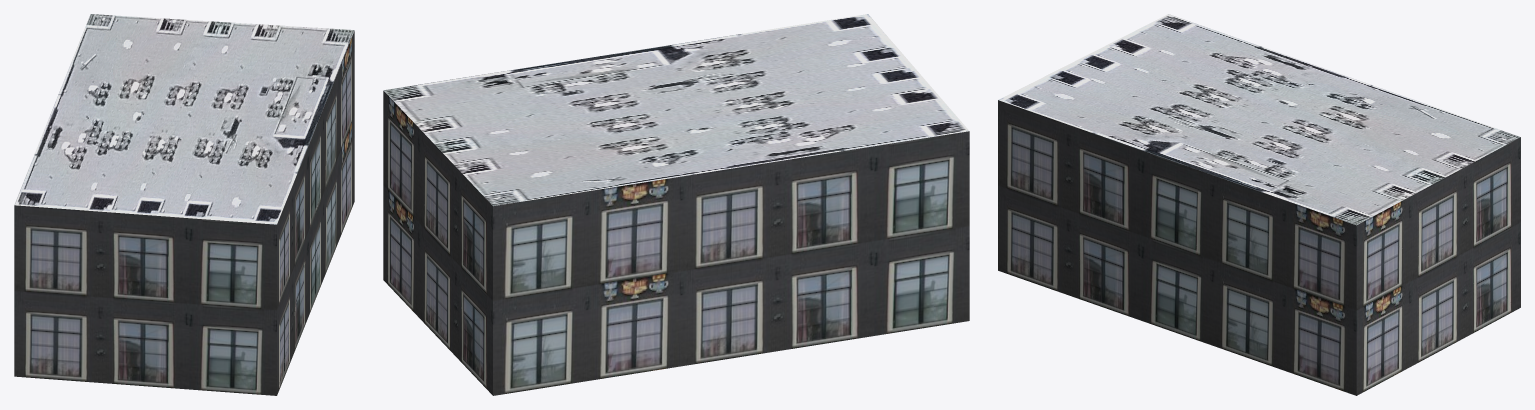
The model's file is ResTex__1059.fbx.
The picture shows the model from 3 angles, left to right: view 1: azimuth 30°, elevation 25°; view 2: azimuth 150°, elevation 25°; view 3: azimuth 270°, elevation 25°; orthographic projection. The views are drawn at different scales.
Visible parts, largest first — view 1: CityEngineMaterial_22_m, CityEngineMaterial_m; view 2: CityEngineMaterial_22_m, CityEngineMaterial_m; view 3: CityEngineMaterial_22_m, CityEngineMaterial_m.
Boxes of the visible parts, x1,y1,x2,y2 form: CityEngineMaterial_22_m: (14,31,354,395); CityEngineMaterial_m: (14,14,354,224); CityEngineMaterial_22_m: (383,91,969,395); CityEngineMaterial_m: (383,14,969,206); CityEngineMaterial_22_m: (998,100,1520,395); CityEngineMaterial_m: (998,14,1520,225).
Bounding box in the file's own units: 15.95 × 6 × 16.67.
Materials: 2 (2 with a texture image).
